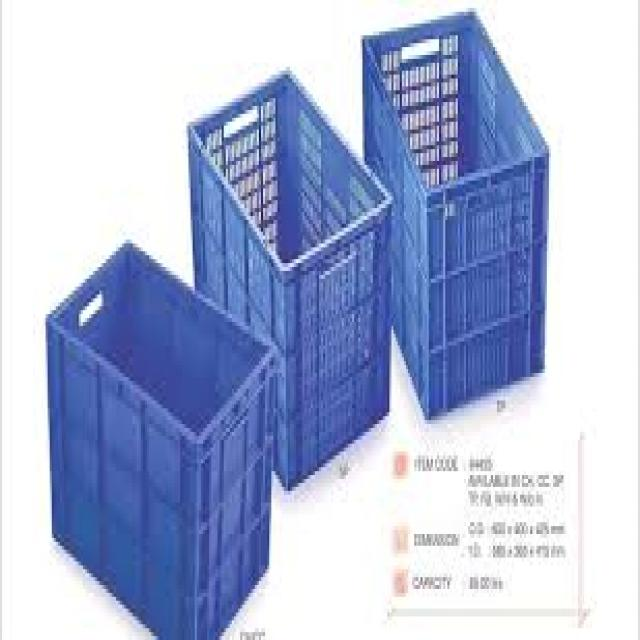basket: (344, 3, 592, 419), (42, 239, 285, 640), (188, 71, 394, 487)
